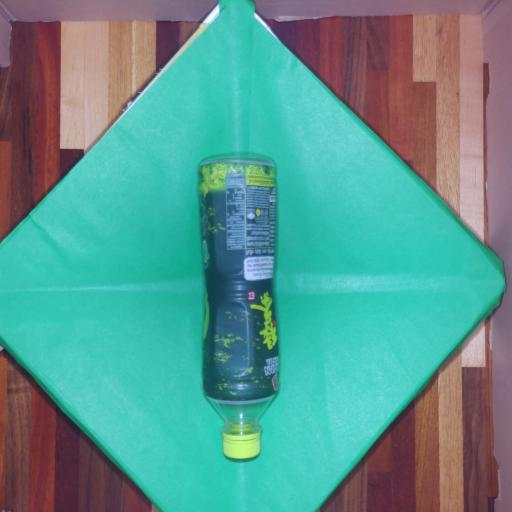bottle: (197, 154, 284, 464)
